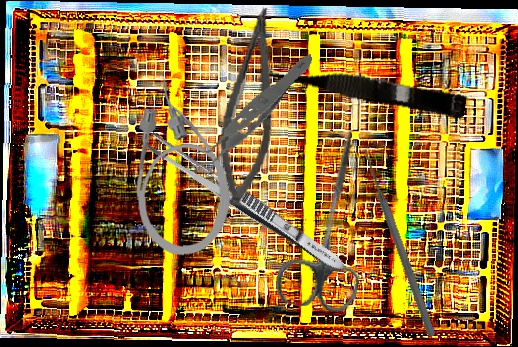Cannula: (132, 76, 232, 259)
Dressing Forceps: (141, 130, 350, 277)
Iris Scissors: (272, 121, 388, 316)
Micro Scissor: (254, 53, 468, 120), (214, 4, 283, 208)
Pusher: (358, 146, 439, 338)
Tissue Forceps: (171, 53, 330, 169)
